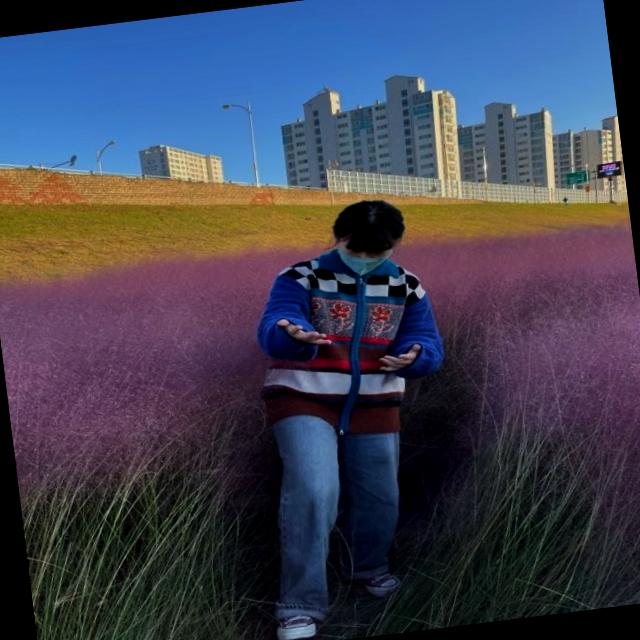cardigan: (243, 237, 456, 448)
denimpants: (252, 399, 413, 626)
